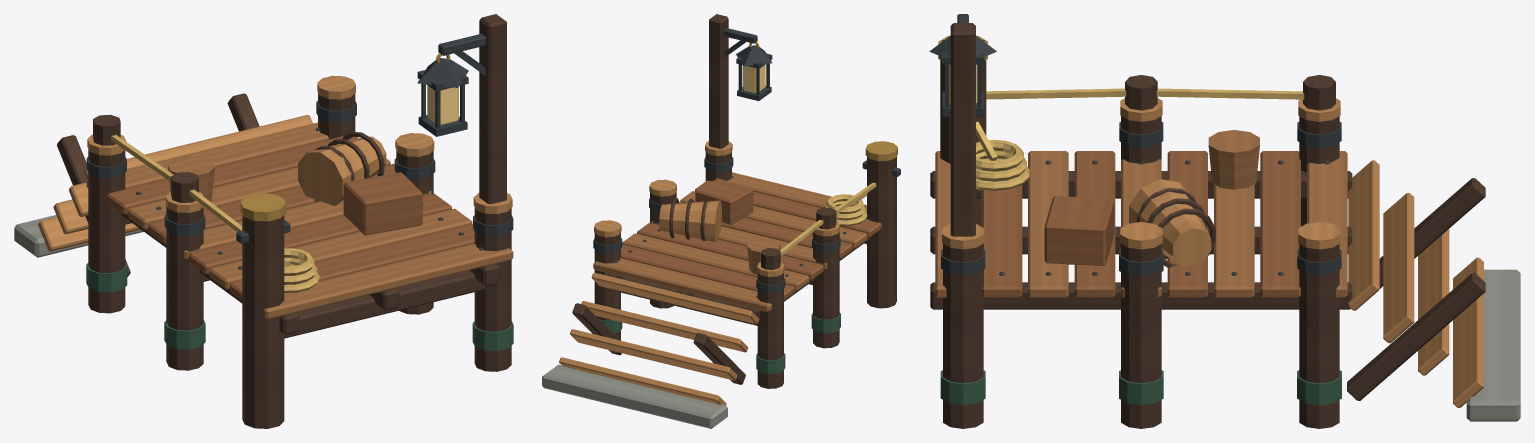
The model's file is river_jetty_dock.glb.
The picture shows the model from 3 angles, left to right: view 1: azimuth 30°, elevation 25°; view 2: azimuth 150°, elevation 25°; view 3: azimuth 270°, elevation 25°; orthographic projection. The views are drawn at different scales.
Visible parts, largest first — view 1: river_jetty_dock; view 2: river_jetty_dock; view 3: river_jetty_dock.
Boxes of the visible parts, x1,y1,x2,y2 form: river_jetty_dock: (14,14,513,428); river_jetty_dock: (542,14,900,428); river_jetty_dock: (929,14,1520,428).
Size of the model in its own units: 1.85 by 2.24 by 3.06.
1 material, 1 textured.
